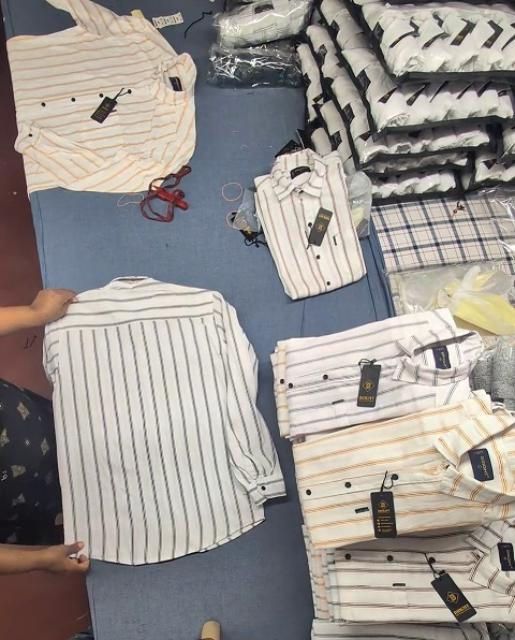new-garment: (44, 277, 285, 564)
